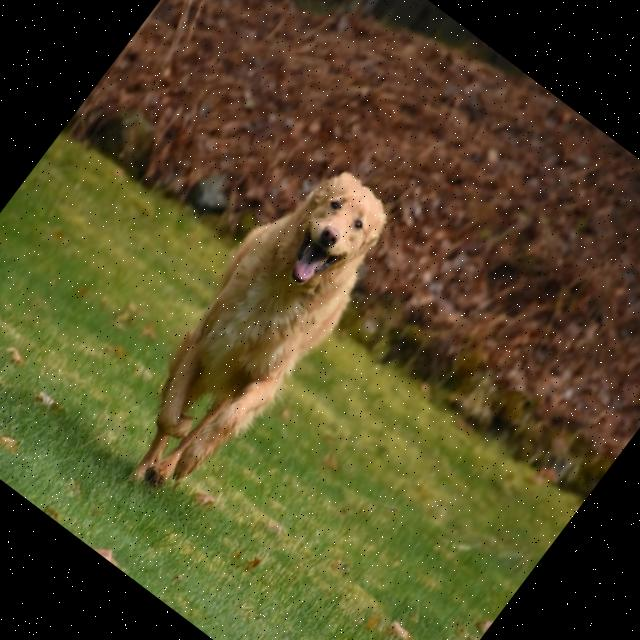Dog: (88, 147, 414, 521)
